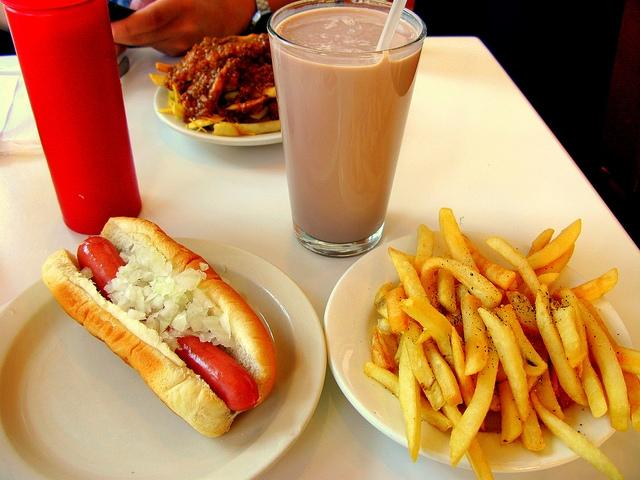onion: (202, 316, 236, 348), (177, 270, 201, 290), (171, 310, 191, 332), (185, 303, 204, 323), (190, 316, 210, 332), (219, 312, 231, 338), (111, 275, 129, 292), (157, 314, 172, 334), (162, 277, 175, 297), (127, 308, 146, 320), (123, 263, 139, 275), (199, 332, 216, 343), (144, 291, 159, 303), (158, 307, 174, 317), (122, 270, 138, 280), (117, 300, 130, 312), (104, 282, 116, 294), (128, 272, 140, 284), (163, 299, 176, 310), (192, 297, 203, 310), (112, 292, 125, 302), (125, 284, 132, 300), (126, 296, 136, 307), (133, 285, 144, 293), (128, 253, 136, 264), (144, 302, 152, 312), (144, 286, 152, 296), (199, 308, 209, 316), (200, 262, 208, 271), (119, 252, 128, 260), (136, 282, 150, 287), (174, 332, 185, 338), (148, 280, 156, 288), (178, 304, 186, 312), (142, 252, 151, 259), (218, 263, 225, 272), (149, 252, 156, 261), (159, 270, 169, 276), (174, 302, 180, 306), (142, 266, 148, 270), (137, 265, 143, 269), (162, 282, 166, 287)
